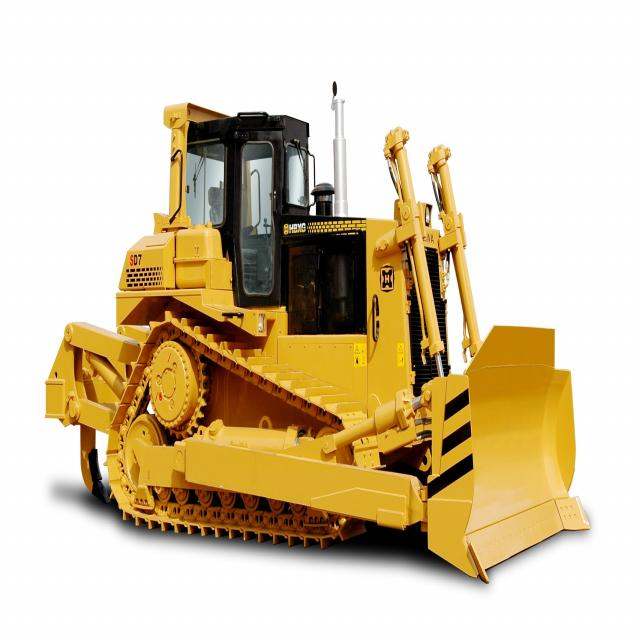Bulldozer: (42, 89, 594, 583)
